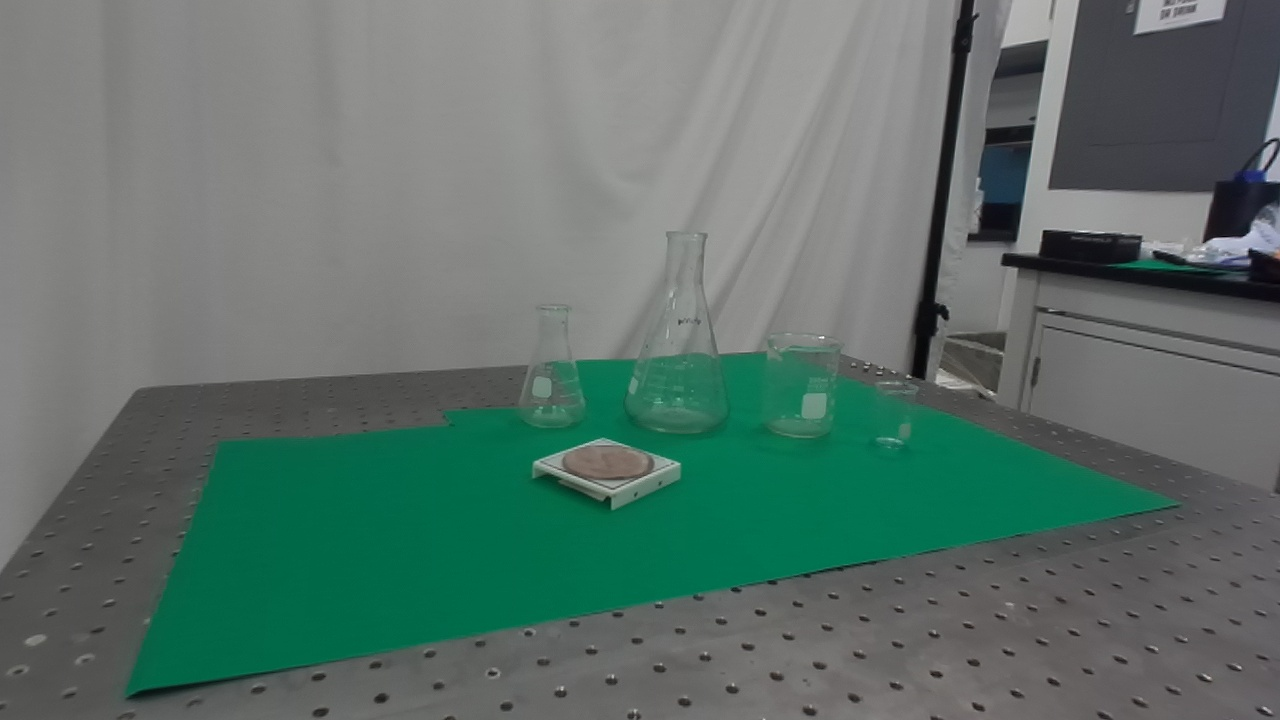glass: (625, 227, 736, 440), (512, 299, 589, 433), (758, 330, 845, 444), (866, 378, 921, 457)
plate: (525, 433, 686, 512)
